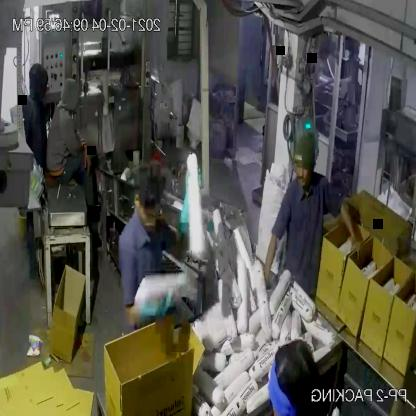glove: (175, 162, 198, 249)
no_glove: (255, 214, 287, 294), (329, 204, 362, 254)
